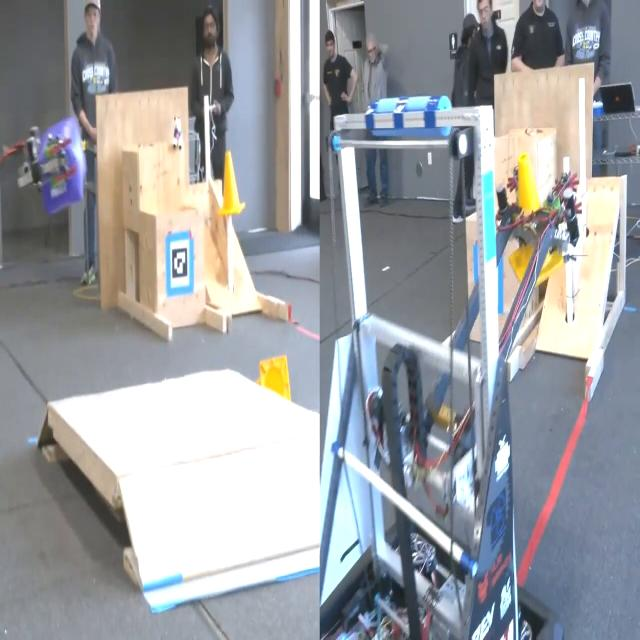frc_cone: (506, 152, 562, 280), (252, 351, 293, 409), (216, 150, 248, 219)
frc_cube: (34, 122, 86, 207)
